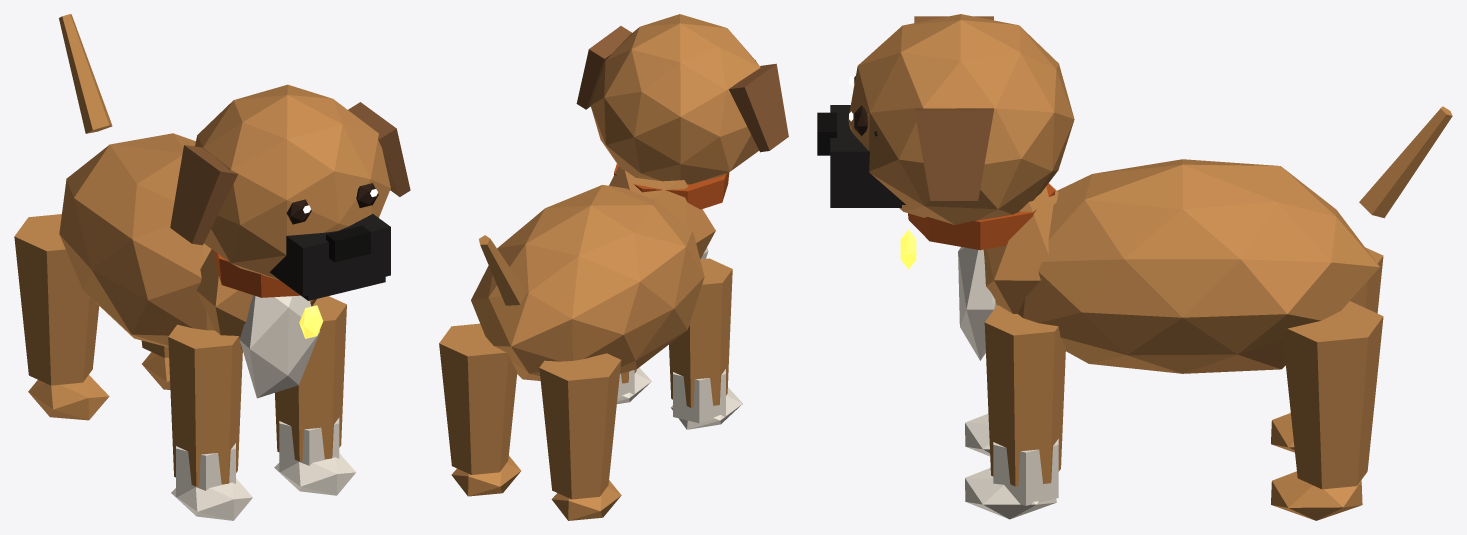
File: biscuit.glb
3 renders of one model, left to right at view 1: azimuth 30°, elevation 25°; view 2: azimuth 150°, elevation 25°; view 3: azimuth 270°, elevation 25°, orthographic. The views are drawn at different scales.
Parts seen in each view (by area): view 1: head, body, leg_FR, leg_BR, leg_FL, ear_R, tail, ear_L, neck, jaw, leg_BL, tag; view 2: body, head, leg_BR, leg_BL, leg_FR, ear_R, ear_L, tail, neck, leg_FL; view 3: body, head, leg_BL, leg_FL, ear_L, neck, tail, leg_BR, leg_FR.
Part boxes in pixels (<box>): head: <box>195,84,390,296</box>; body: <box>59,133,319,398</box>; leg_FR: <box>168,324,252,520</box>; leg_BR: <box>14,214,109,420</box>; leg_FL: <box>274,296,355,495</box>; ear_R: <box>170,145,237,245</box>; tail: <box>59,14,112,133</box>; ear_L: <box>348,102,410,196</box>; neck: <box>214,251,300,297</box>; jaw: <box>276,263,385,300</box>; leg_BL: <box>141,340,170,389</box>; tag: <box>299,305,323,338</box>; body: <box>471,166,715,380</box>; head: <box>590,14,760,184</box>; leg_BR: <box>539,353,621,520</box>; leg_BL: <box>439,323,520,496</box>; leg_FR: <box>669,258,742,429</box>; ear_R: <box>729,63,788,152</box>; ear_L: <box>576,26,631,109</box>; tail: <box>479,235,526,305</box>; neck: <box>614,164,729,209</box>; leg_FL: <box>617,367,651,404</box>; body: <box>958,159,1379,373</box>; head: <box>817,14,1074,224</box>; leg_BL: <box>1271,301,1383,520</box>; leg_FL: <box>965,305,1065,519</box>; ear_L: <box>914,108,993,200</box>; neck: <box>908,183,1055,250</box>; tail: <box>1359,106,1452,218</box>; leg_BR: <box>1271,247,1383,452</box>; leg_FR: <box>965,414,990,456</box>.
Bounding box in the file's own units: 0.4237 × 0.7828 × 0.9741.
